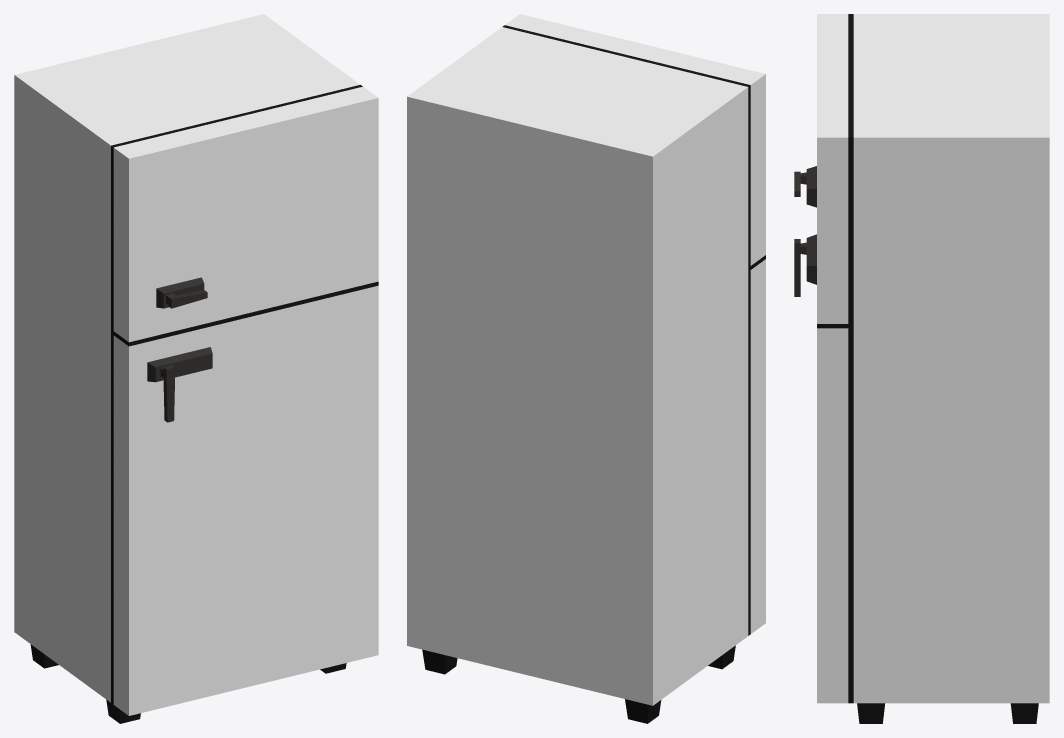
The model's file is Fridge.fbx.
3 renders of one model, left to right at view 1: azimuth 30°, elevation 25°; view 2: azimuth 150°, elevation 25°; view 3: azimuth 270°, elevation 25°, orthographic. The views are drawn at different scales.
Parts seen in each view (by area): view 1: polySurface2198; view 2: polySurface2198; view 3: polySurface2198.
Part boxes in pixels (left/top/right/bottom): polySurface2198: left=14, top=14, right=378, bottom=723; polySurface2198: left=407, top=14, right=765, bottom=723; polySurface2198: left=794, top=14, right=1049, bottom=723.
Size of the model in its own units: 1.5 by 3.35 by 1.31.
1 material, 1 textured.
